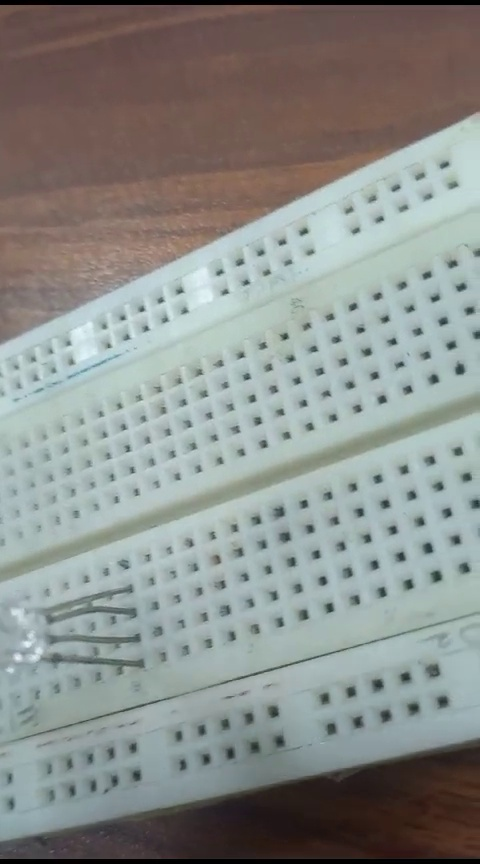LED: (1, 585, 139, 683)
